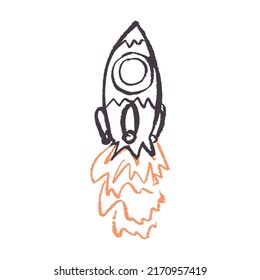roket: (90, 20, 172, 240)
